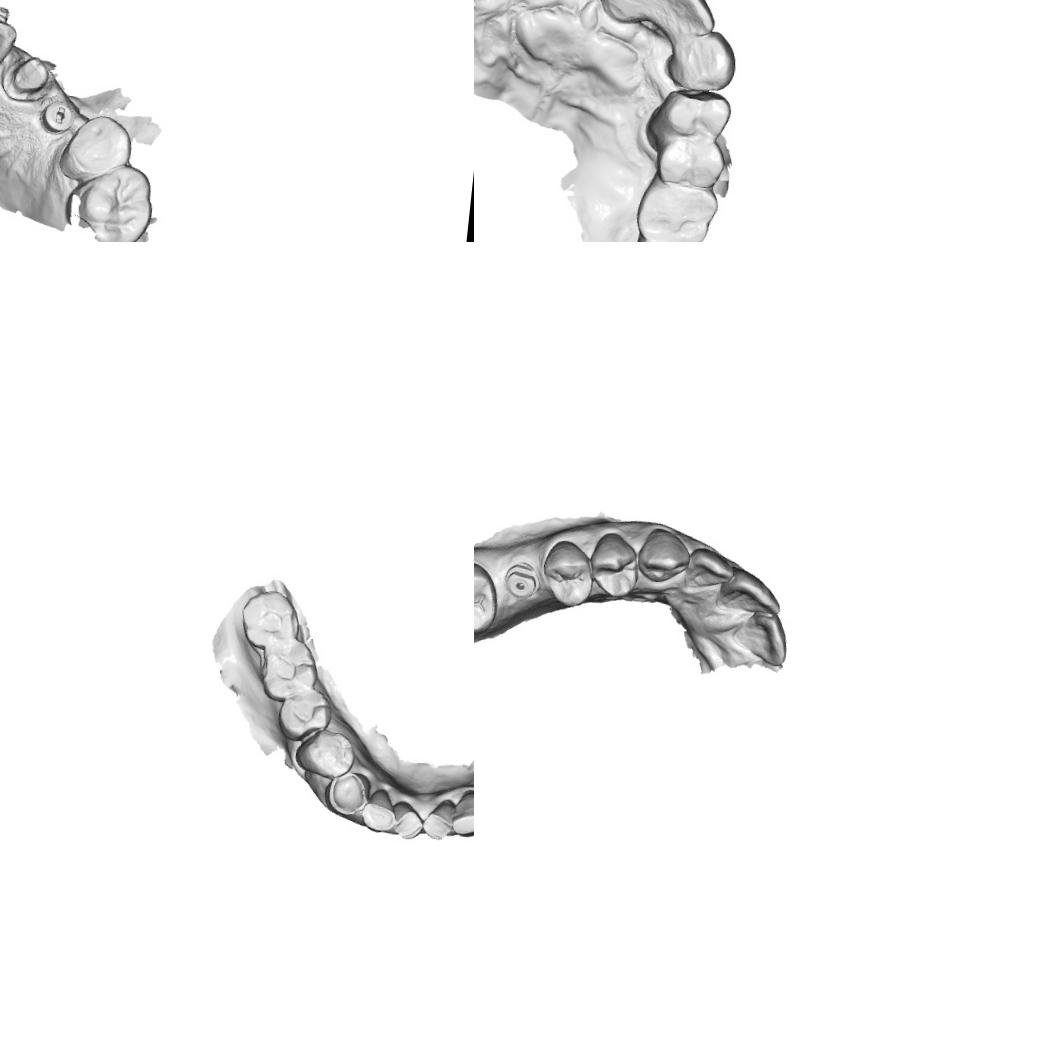canine: (662, 25, 740, 97), (637, 521, 698, 592), (323, 768, 377, 825)
crown: (5, 51, 54, 103)
implant: (497, 554, 552, 611)
implant_minus: (35, 94, 79, 139)
incisor: (731, 608, 791, 670), (724, 562, 782, 623), (678, 535, 736, 595), (656, 0, 725, 42), (603, 0, 691, 28), (358, 786, 404, 836), (419, 792, 460, 846), (389, 797, 424, 844), (0, 7, 21, 74), (449, 787, 474, 843)
molar: (65, 158, 157, 242), (633, 173, 720, 242), (250, 634, 328, 706), (236, 586, 300, 657), (474, 555, 502, 643)
premolar: (56, 110, 136, 190), (646, 82, 734, 146), (652, 128, 730, 194), (538, 535, 599, 613), (583, 530, 645, 604), (272, 683, 334, 747), (292, 724, 358, 782)
